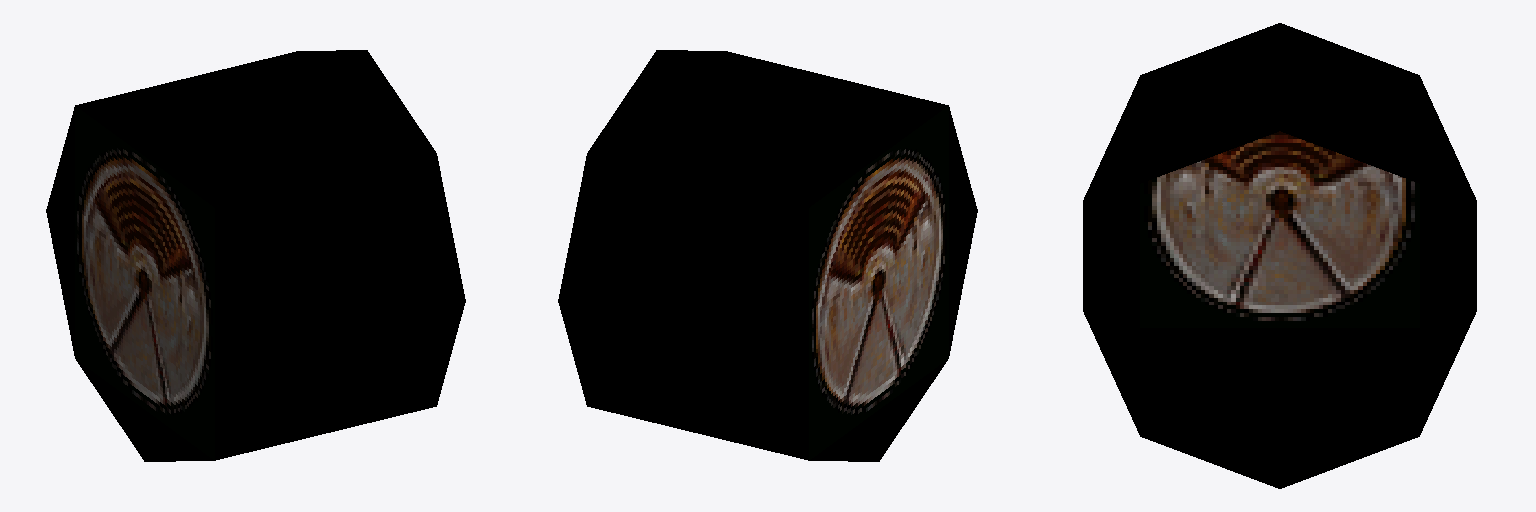
The picture shows the model from 3 angles: view 1: azimuth 30°, elevation 25°; view 2: azimuth 150°, elevation 25°; view 3: azimuth 270°, elevation 25°; orthographic projection.
Visible parts, largest first — view 1: WheelFrontR; view 2: WheelFrontR; view 3: WheelFrontR.
Boxes of the visible parts, x1=… form: WheelFrontR: x1=46, y1=50, x2=465, y2=461; WheelFrontR: x1=558, y1=50, x2=977, y2=461; WheelFrontR: x1=1083, y1=23, x2=1476, y2=488.
Bounding box in the file's own units: 0.6878 × 1.06 × 1.06.
2 materials, 1 textured.